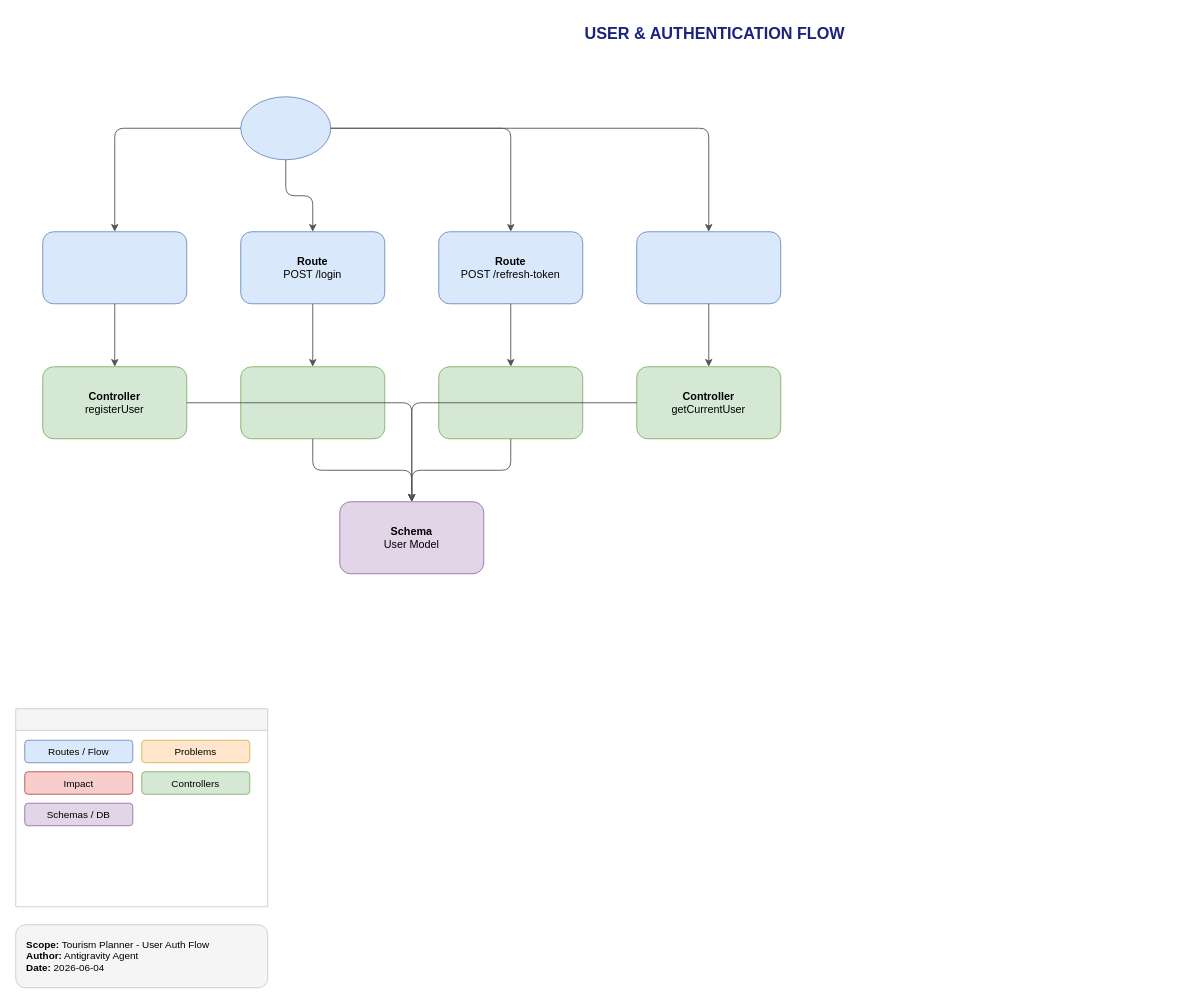
This 1181x1004 diagram has some shape labels left out. The shapes that lost their labels are listed below. From the top down, each one's box as (x1, y1, x2, y2) in pixels, then its label:
(240, 96, 331, 160): CLIENT
(42, 231, 187, 304): Route POST /register
(636, 231, 781, 304): Route GET /me
(240, 366, 385, 439): Controller loginUser
(438, 366, 583, 439): Controller refreshAccessToken
(15, 708, 268, 907): LEGEND
